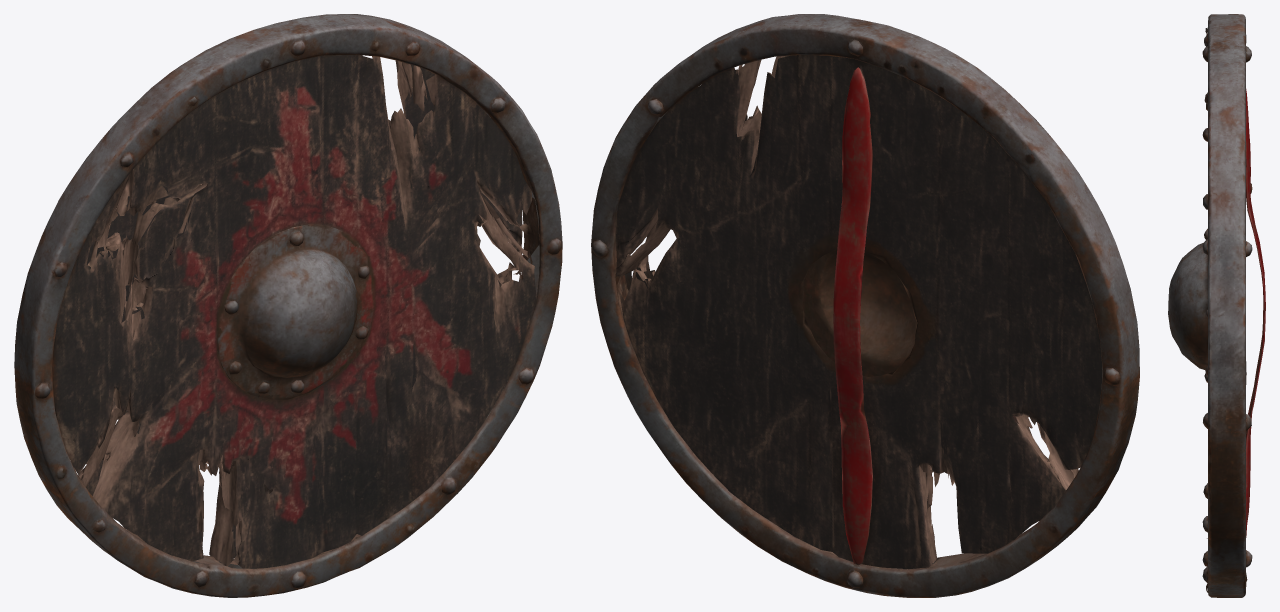
The model's file is game.glb.
3 renders of one model, left to right at view 1: azimuth 30°, elevation 25°; view 2: azimuth 150°, elevation 25°; view 3: azimuth 270°, elevation 25°, orthographic. The views are drawn at different scales.
Visible parts, largest first — view 1: geometry_0; view 2: geometry_0; view 3: geometry_0.
Boxes of the visible parts, x1,y1,x2,y2 form: geometry_0: (14,14,562,597); geometry_0: (591,14,1139,597); geometry_0: (1168,14,1265,597).
Bounding box in the file's own units: 0.9989 × 0.9975 × 0.1674.
Materials: 1 (1 with a texture image).
